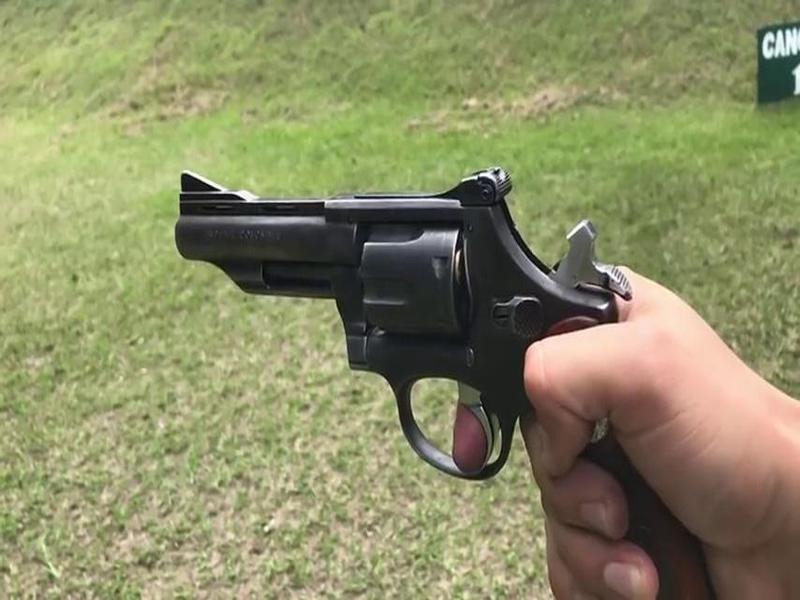Revolver: (172, 152, 669, 492)
